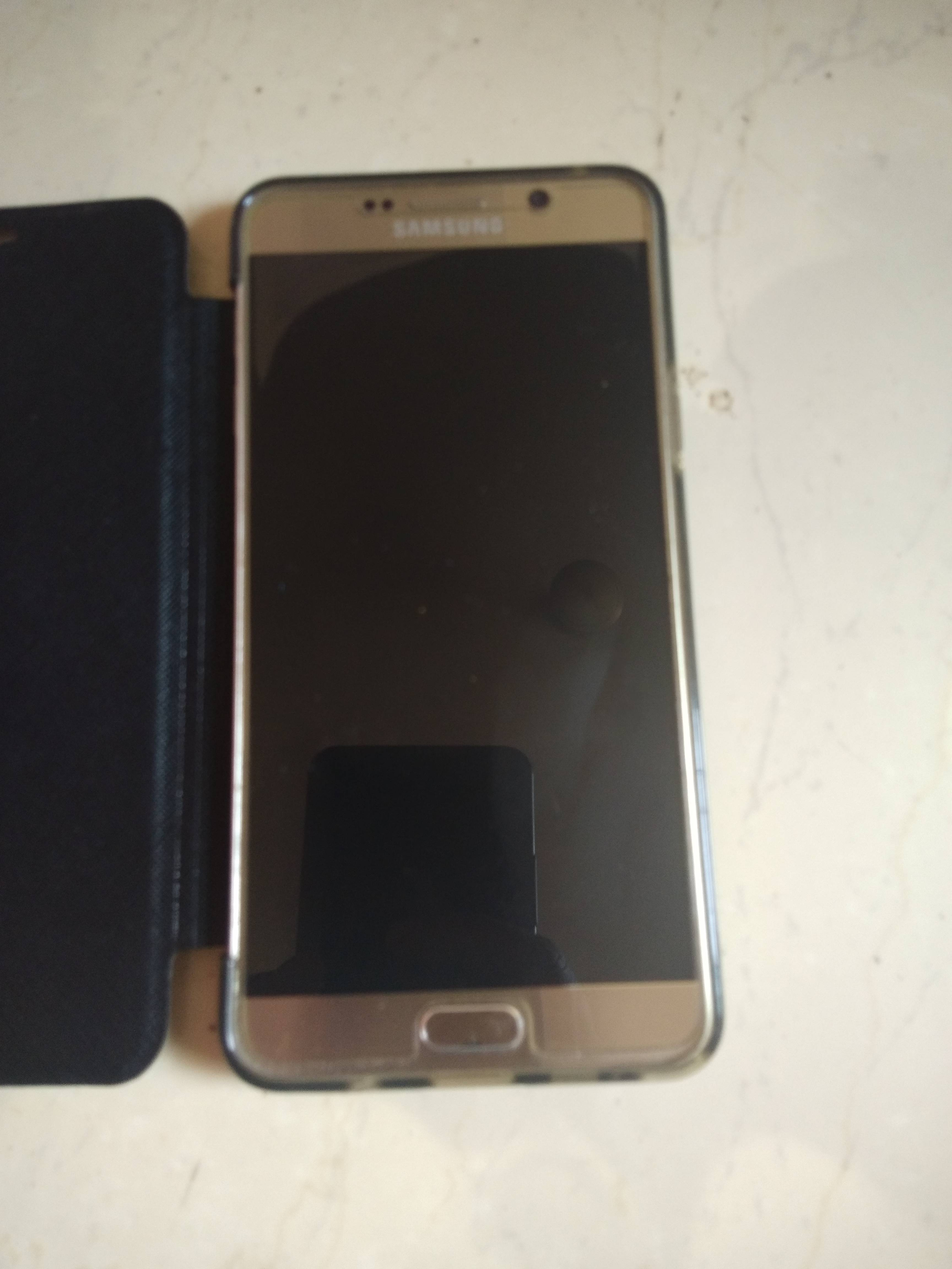Electronics: (176, 113, 756, 1136)
